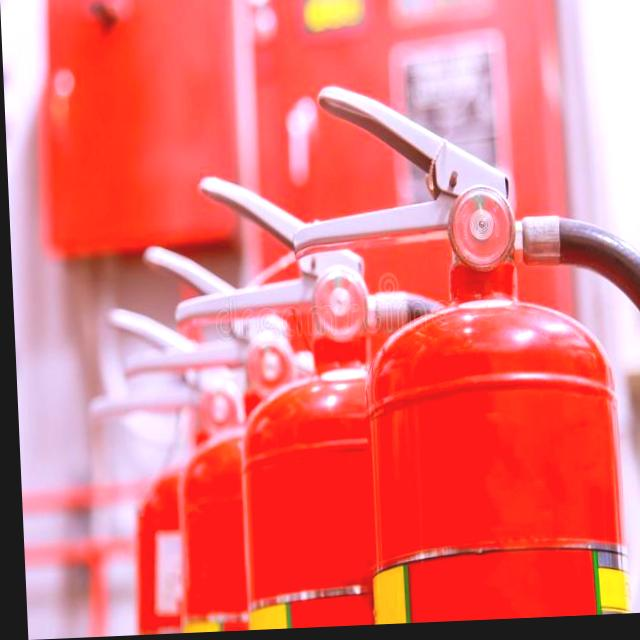FireExtinguisher: (276, 70, 640, 629), (162, 161, 479, 634), (112, 237, 376, 636), (71, 298, 269, 637)
